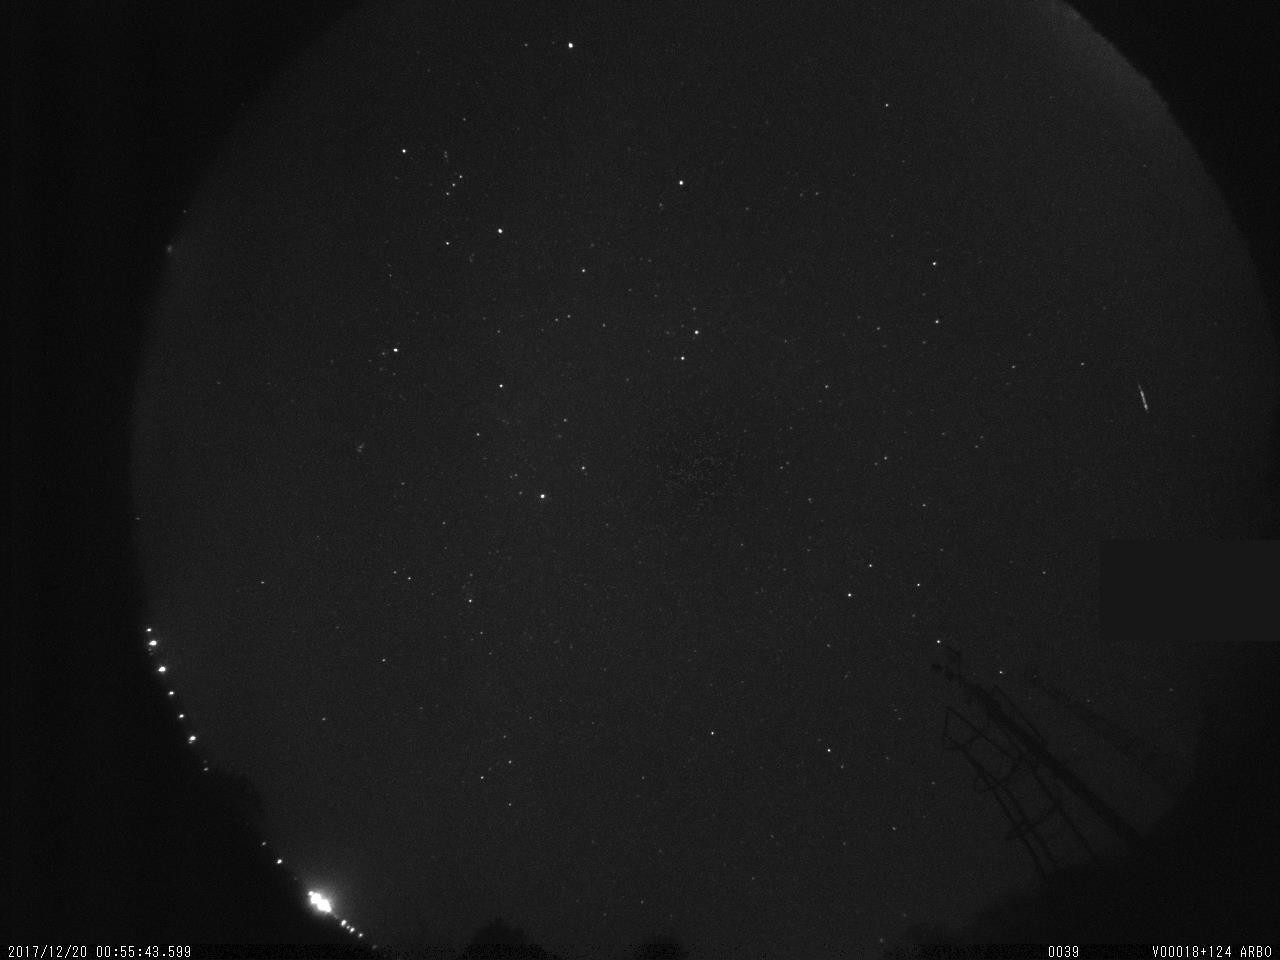Meteor: (1130, 375, 1155, 419)
